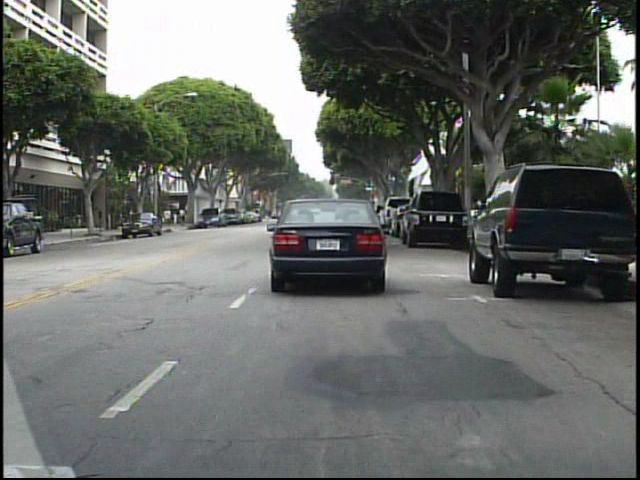person: (162, 205, 176, 230), (179, 203, 191, 229)
